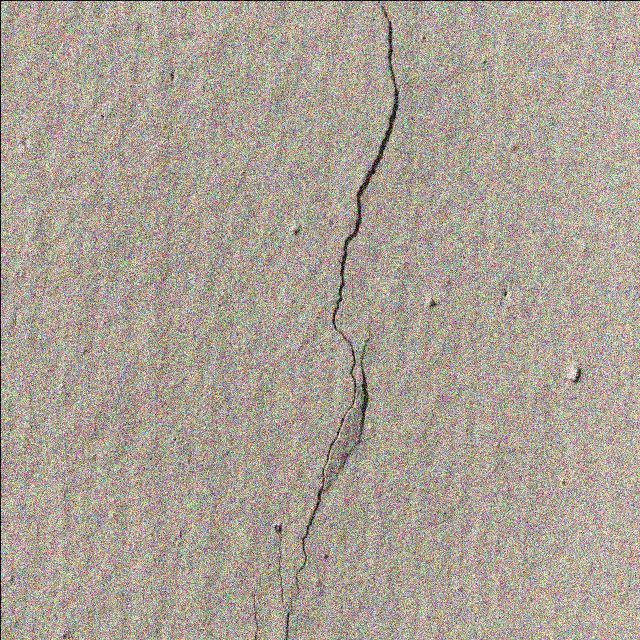SurfaceCrack: (252, 0, 445, 639)
